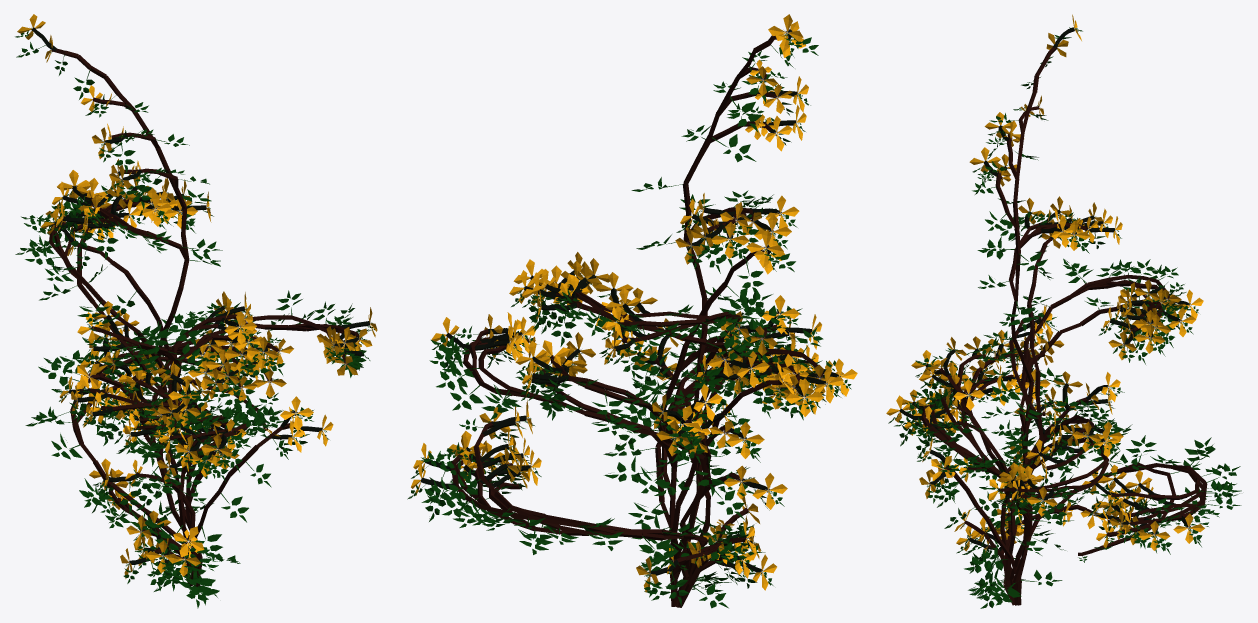
3 renders of one model, left to right at view 1: azimuth 30°, elevation 25°; view 2: azimuth 150°, elevation 25°; view 3: azimuth 270°, elevation 25°, orthographic. The views are drawn at different scales.
Visible parts, largest first — view 1: leaves1, branches, flowers2, leaves2, flowers1, stems, blossom2; view 2: leaves1, branches, flowers2, leaves2, flowers1, stems, blossom2; view 3: branches, leaves1, flowers2, leaves2, stems, flowers1, blossom2.
Part boxes in pixels (x1,y1,x2,y2): leaves1: (15,51,372,608); branches: (49,48,360,586); flowers2: (17,14,377,578); leaves2: (15,28,374,591); flowers1: (45,35,372,563); stems: (31,27,369,564); blossom2: (29,25,371,563); leaves1: (421,41,843,608); branches: (451,35,823,607); flowers2: (411,14,857,592); leaves2: (407,33,851,606); flowers1: (455,21,832,574); stems: (420,29,840,576); blossom2: (418,28,844,578); branches: (921,46,1207,605); leaves1: (894,49,1241,608); flowers2: (886,14,1204,551); leaves2: (888,27,1202,573); stems: (899,27,1191,551); flowers1: (914,33,1188,552); blossom2: (897,28,1194,541).
Bounding box in the file's own units: 120 × 189 × 115.
